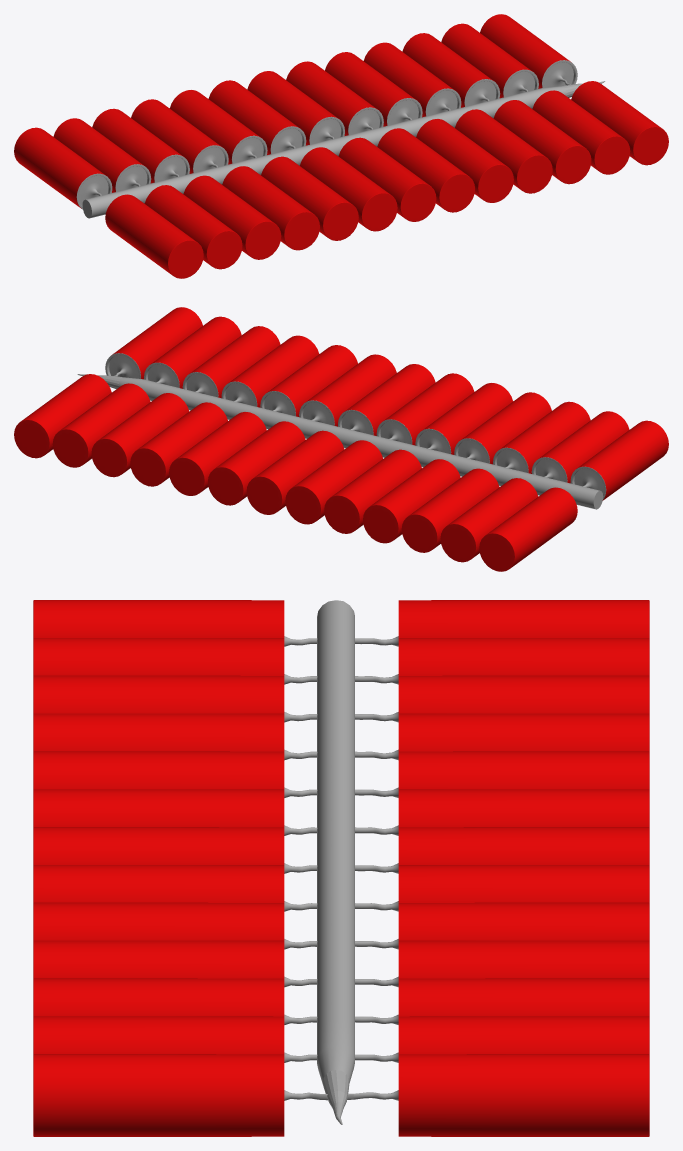
File: crackers.fbx
3 views of the same model, one above another, from view 1: azimuth 30°, elevation 25°; view 2: azimuth 150°, elevation 25°; view 3: azimuth 270°, elevation 25° (orthographic). The views are drawn at different scales.
Parts seen in each view (by area): view 1: pCylinder16; view 2: pCylinder16; view 3: pCylinder16.
Boxes of the visible parts, x1,y1,x2,y2 form: pCylinder16: [14, 14, 668, 278]; pCylinder16: [14, 307, 668, 571]; pCylinder16: [33, 600, 649, 1136].
Size of the model in its own units: 46.11 by 3.2 by 23.69.
